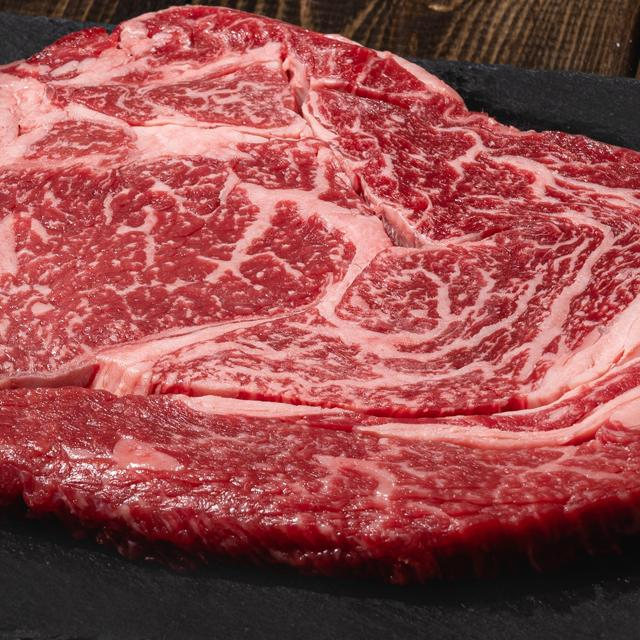beef: (0, 141, 603, 438)
